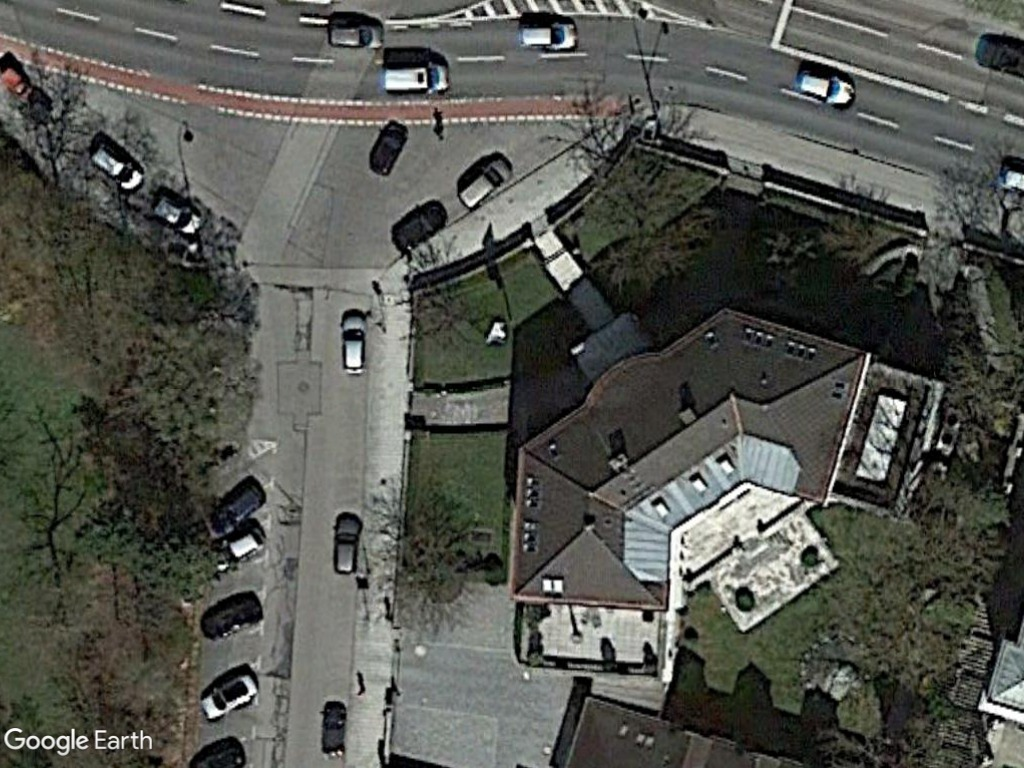car: (197, 668, 263, 725), (455, 153, 516, 212), (792, 63, 861, 110), (88, 139, 146, 194), (380, 61, 453, 97), (150, 192, 205, 238), (516, 20, 584, 56), (339, 307, 371, 381), (325, 18, 388, 54), (331, 507, 362, 577)
